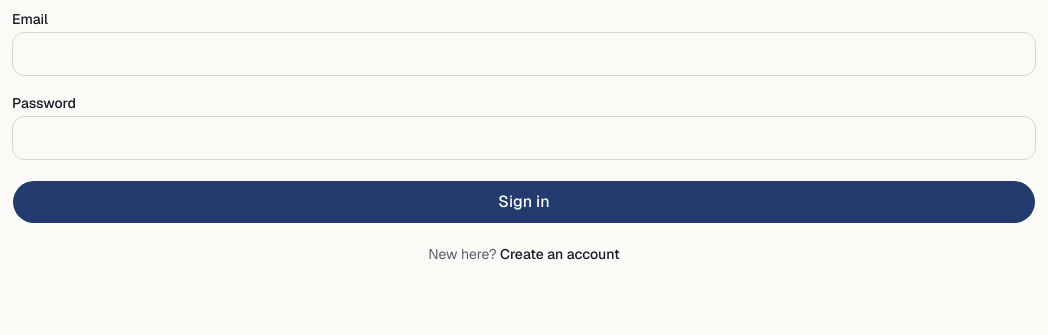
LoginForm › shows the server's message for invalid credentials
Type "maya@example.com" into the field labelled "Email" at (524, 54), box 12,32 -> 1036,76
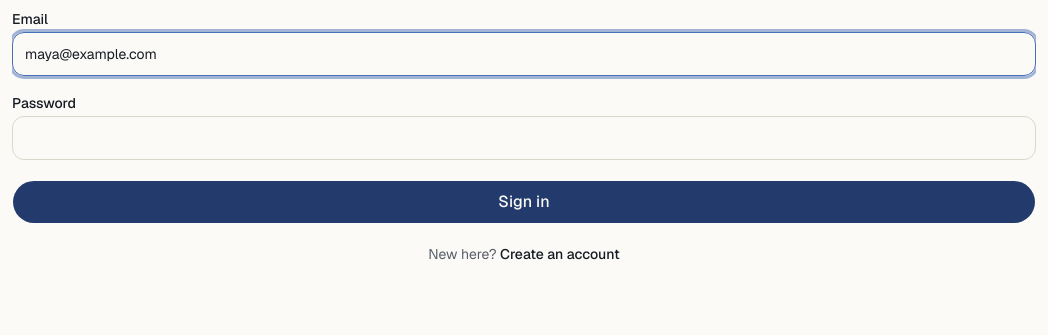
Type "wrong-password" into the password field labelled "Password" at (524, 138), box 12,116 -> 1036,160
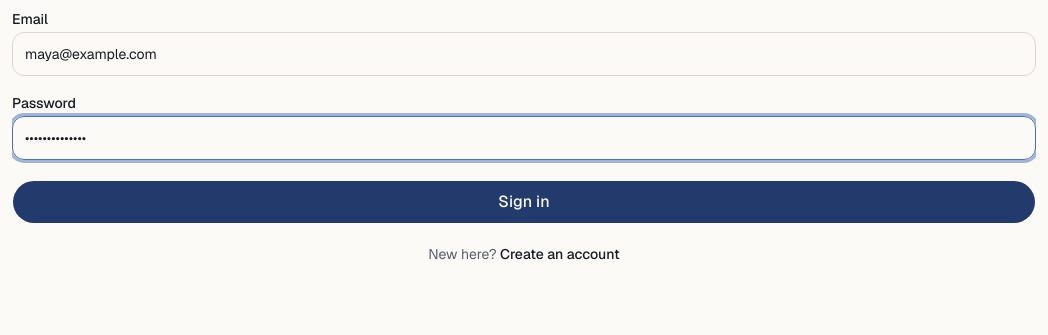
Click the button "Sign in" at (524, 202), box 12,180 -> 1036,224
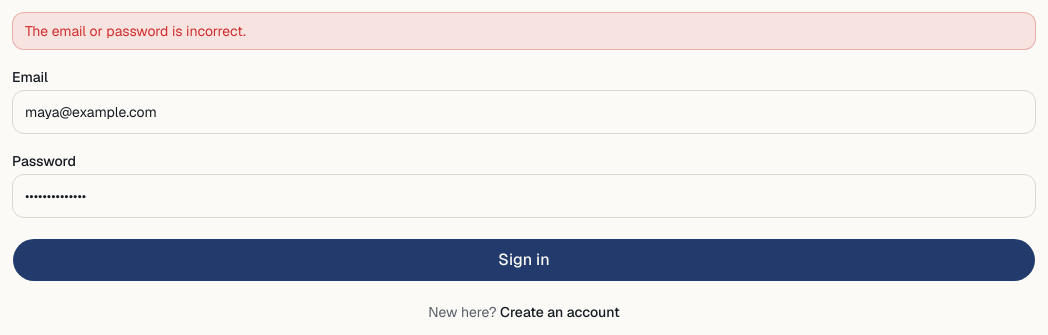
Result: the message reads "The email or password is incorrect." at 25,22 -> 246,40
